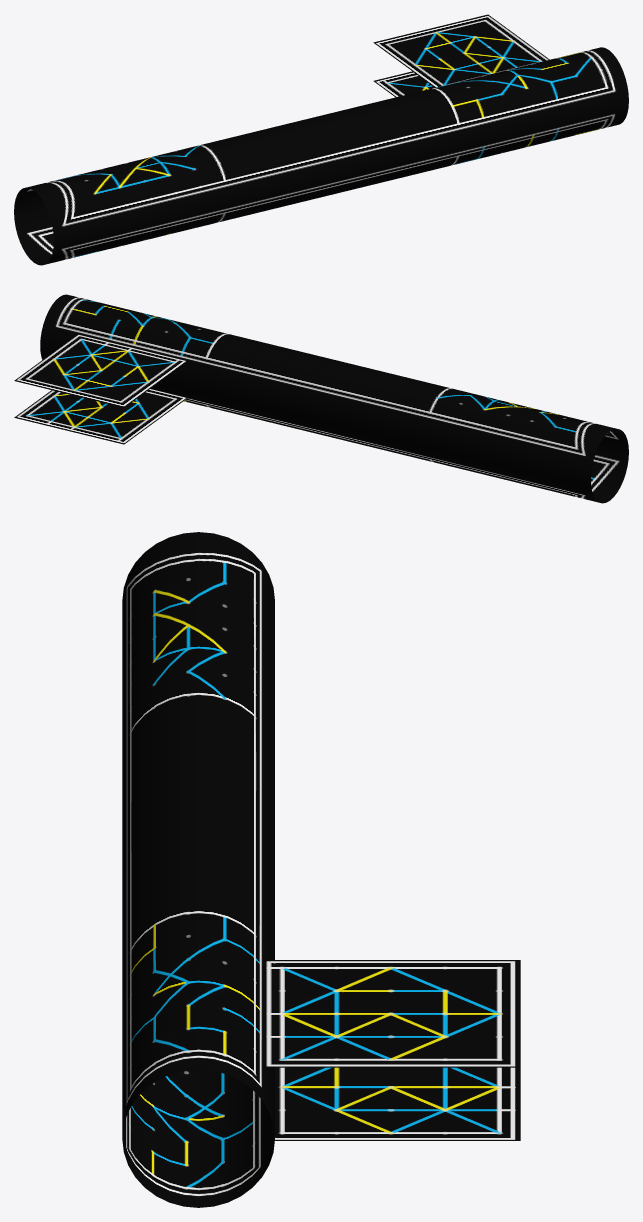
File: Crown_Key_Symbol_Paterns.fbx
3 views of the same model, one above another, from view 1: azimuth 30°, elevation 25°; view 2: azimuth 150°, elevation 25°; view 3: azimuth 270°, elevation 25° (orthographic). The views are drawn at different scales.
Parts seen in each view (by area): view 1: Symbol_Patern; view 2: Symbol_Patern; view 3: Symbol_Patern.
Boxes of the visible parts, x1=… form: Symbol_Patern: x1=14, y1=14, x2=628, y2=265; Symbol_Patern: x1=14, y1=294, x2=628, y2=503; Symbol_Patern: x1=122, y1=532, x2=520, y2=1207.
Size of the model in its own units: 264 by 31.66 by 82.57.
Materials: 1 (1 with a texture image).
